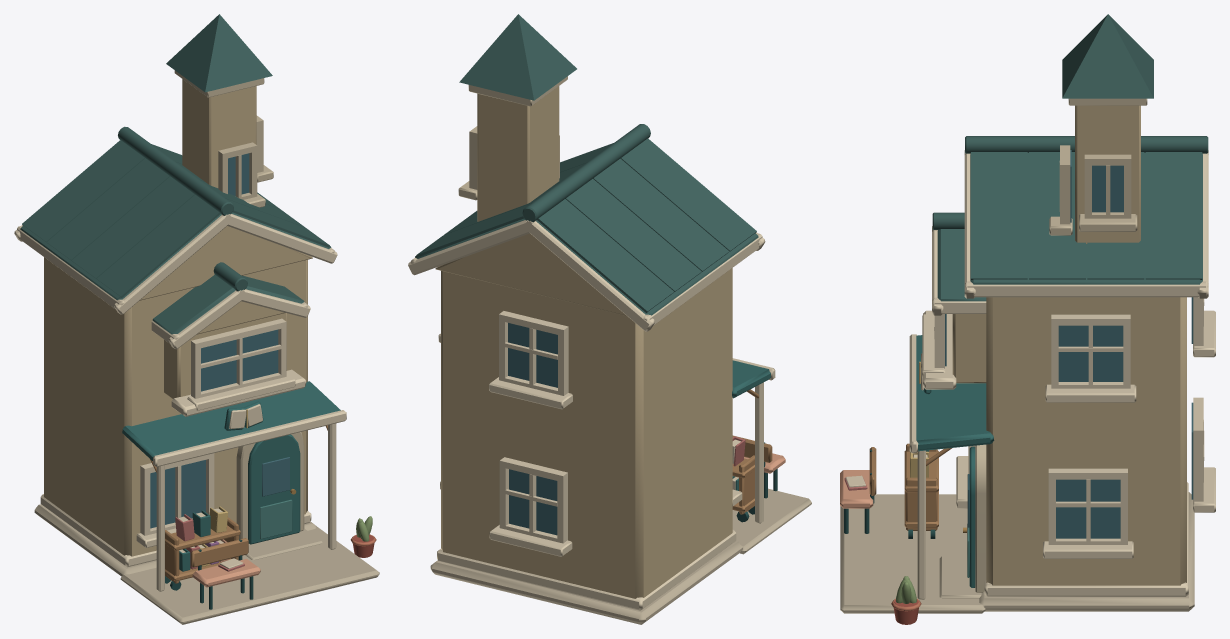
File: bookshop_level_3.glb
3 views of the same model, side by side, from view 1: azimuth 30°, elevation 25°; view 2: azimuth 150°, elevation 25°; view 3: azimuth 270°, elevation 25° (orthographic). The views are drawn at different scales.
Parts seen in each view (by area): view 1: bookshop_level_3_runtime; view 2: bookshop_level_3_runtime; view 3: bookshop_level_3_runtime.
Part boxes in pixels (x1=…): bookshop_level_3_runtime: x1=14, y1=14, x2=379, y2=624; bookshop_level_3_runtime: x1=408, y1=14, x2=811, y2=624; bookshop_level_3_runtime: x1=840, y1=14, x2=1215, y2=624.
Size of the model in its own units: 3.66 by 7.4 by 4.39.
